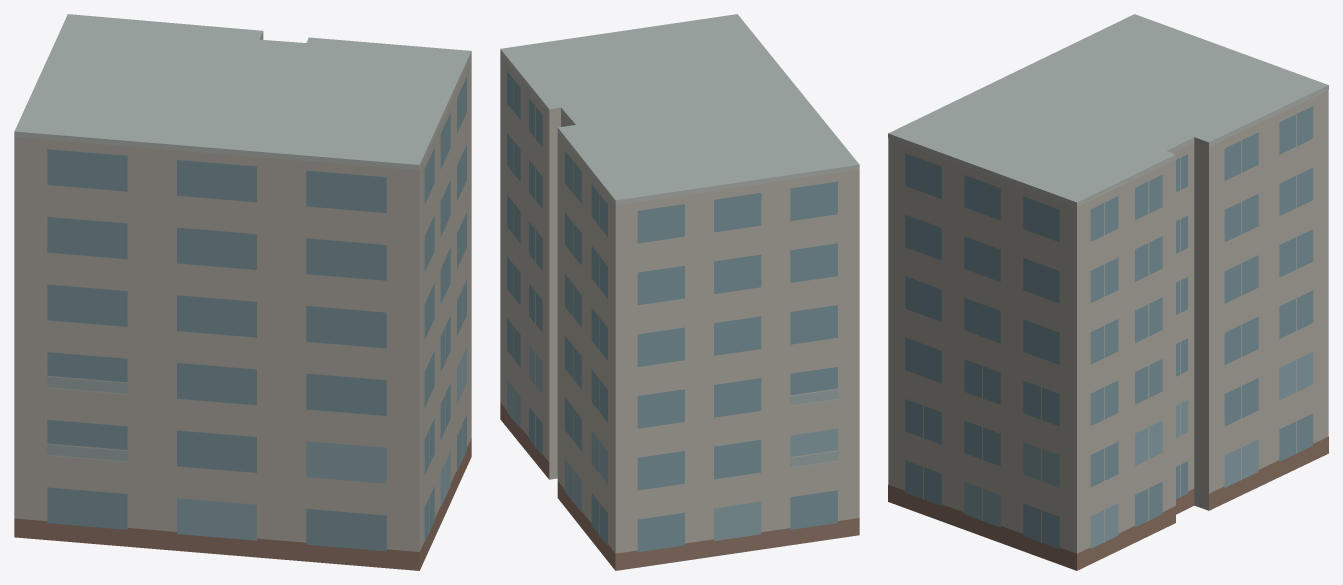
The model's file is survey-upis-32692858.glb.
3 views of the same model, side by side, from view 1: azimuth 30°, elevation 25°; view 2: azimuth 150°, elevation 25°; view 3: azimuth 270°, elevation 25° (orthographic). The views are drawn at different scales.
Visible parts, largest first — view 1: survey-upis-32692858.tmp; view 2: survey-upis-32692858.tmp; view 3: survey-upis-32692858.tmp.
Boxes of the visible parts, box(x1,y1,x2,y2) form: survey-upis-32692858.tmp: box(14, 14, 471, 570); survey-upis-32692858.tmp: box(500, 14, 859, 570); survey-upis-32692858.tmp: box(888, 14, 1328, 570).
Size of the model in its own units: 20.08 by 18.3 by 19.84.
